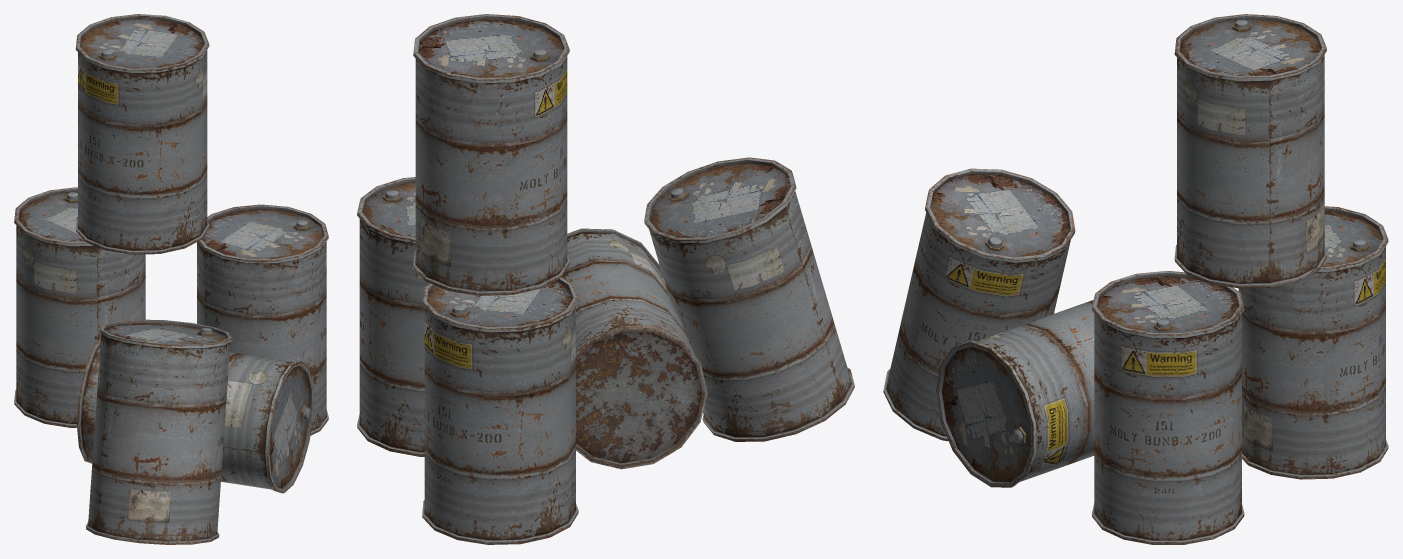
File: toxic_barrel.glb
The picture shows the model from 3 angles, left to right: view 1: azimuth 30°, elevation 25°; view 2: azimuth 150°, elevation 25°; view 3: azimuth 270°, elevation 25°; orthographic projection. The views are drawn at different scales.
Visible parts, largest first — view 1: COM_Box_MetalBoxA_LOWDrum01_SM005, COM_Box_MetalBoxA_LOWDrum01_SM006, COM_Box_MetalBoxA_LOWDrum01_SM004, COM_Box_MetalBoxA_LOWDrum01_SM02, COM_Box_MetalBoxA_LOWDrum01_SM003; view 2: COM_Box_MetalBoxA_LOWDrum01_SM005, COM_Box_MetalBoxA_LOWDrum01_SM006, COM_Box_MetalBoxA_LOWDrum01_SM004, COM_Box_MetalBoxA_LOWDrum01_SM003, COM_Box_MetalBoxA_LOWDrum01_SM02; view 3: COM_Box_MetalBoxA_LOWDrum01_SM005, COM_Box_MetalBoxA_LOWDrum01_SM02, COM_Box_MetalBoxA_LOWDrum01_SM004, COM_Box_MetalBoxA_LOWDrum01_SM006, COM_Box_MetalBoxA_LOWDrum01_SM003.
Part boxes in pixels (x1=…): COM_Box_MetalBoxA_LOWDrum01_SM005: x1=75, y1=14, x2=209, y2=254; COM_Box_MetalBoxA_LOWDrum01_SM006: x1=86, y1=319, x2=232, y2=544; COM_Box_MetalBoxA_LOWDrum01_SM004: x1=14, y1=187, x2=145, y2=427; COM_Box_MetalBoxA_LOWDrum01_SM02: x1=197, y1=204, x2=328, y2=435; COM_Box_MetalBoxA_LOWDrum01_SM003: x1=77, y1=337, x2=313, y2=493; COM_Box_MetalBoxA_LOWDrum01_SM005: x1=413, y1=14, x2=569, y2=295; COM_Box_MetalBoxA_LOWDrum01_SM006: x1=644, y1=157, x2=854, y2=441; COM_Box_MetalBoxA_LOWDrum01_SM004: x1=422, y1=277, x2=578, y2=544; COM_Box_MetalBoxA_LOWDrum01_SM003: x1=562, y1=228, x2=707, y2=469; COM_Box_MetalBoxA_LOWDrum01_SM02: x1=357, y1=177, x2=429, y2=456; COM_Box_MetalBoxA_LOWDrum01_SM005: x1=1174, y1=14, x2=1326, y2=288; COM_Box_MetalBoxA_LOWDrum01_SM02: x1=1092, y1=271, x2=1244, y2=544; COM_Box_MetalBoxA_LOWDrum01_SM004: x1=1238, y1=206, x2=1388, y2=479; COM_Box_MetalBoxA_LOWDrum01_SM006: x1=883, y1=168, x2=1075, y2=441; COM_Box_MetalBoxA_LOWDrum01_SM003: x1=936, y1=300, x2=1094, y2=487.
Bounding box in the file's own units: 162 × 189 × 197.
1 material, 1 textured.
